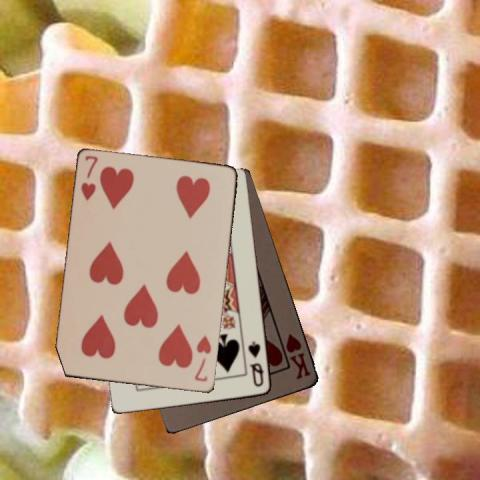7h: (192, 333, 214, 383), (78, 153, 99, 202)
Kh: (282, 331, 312, 381)
Qs: (246, 338, 266, 389)
